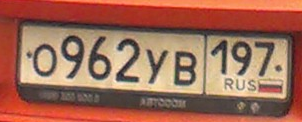character: (87, 31, 114, 83), (60, 33, 86, 81), (115, 37, 141, 84), (173, 49, 198, 90), (145, 46, 169, 87), (254, 38, 277, 80), (32, 43, 58, 78), (211, 37, 230, 79), (232, 40, 252, 78)
